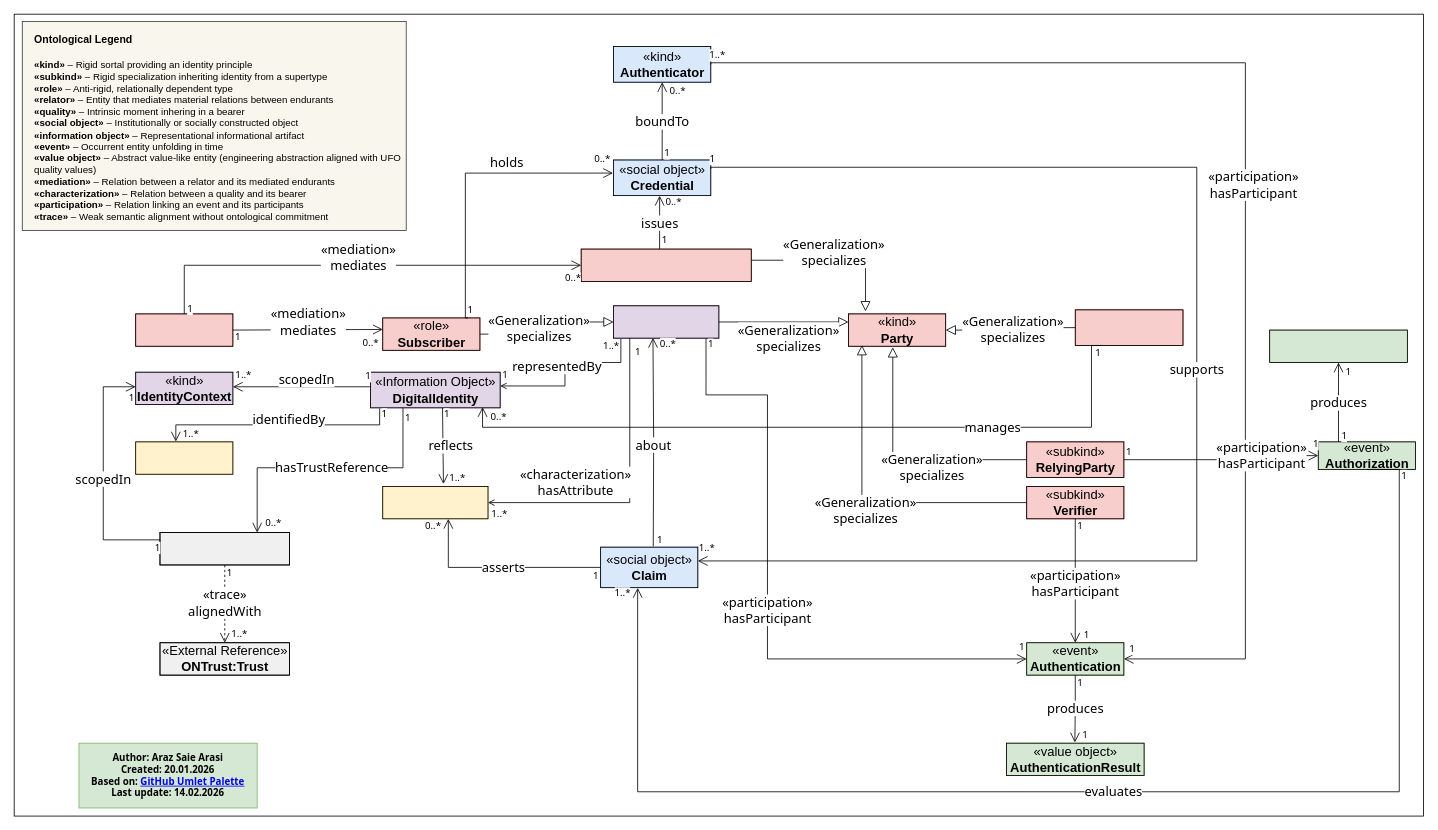
Some shapes in this 1438 by 830 pixel diagram are drawn without their labels. Each missing label, with the centre of its shape:
«Information Object» TrustReference: point (224, 548)
«quality» IdentityAttribute: point (435, 502)
«relator» Enrollment: point (184, 329)
«subkind» CredentialServiceProvider: point (665, 264)
«subkind» IdentityProvider: point (1128, 327)
«subkind» IdentitySubject: point (666, 321)
«value object» AuthorizationResult: point (1338, 345)
«value object» Identifier: point (184, 457)
